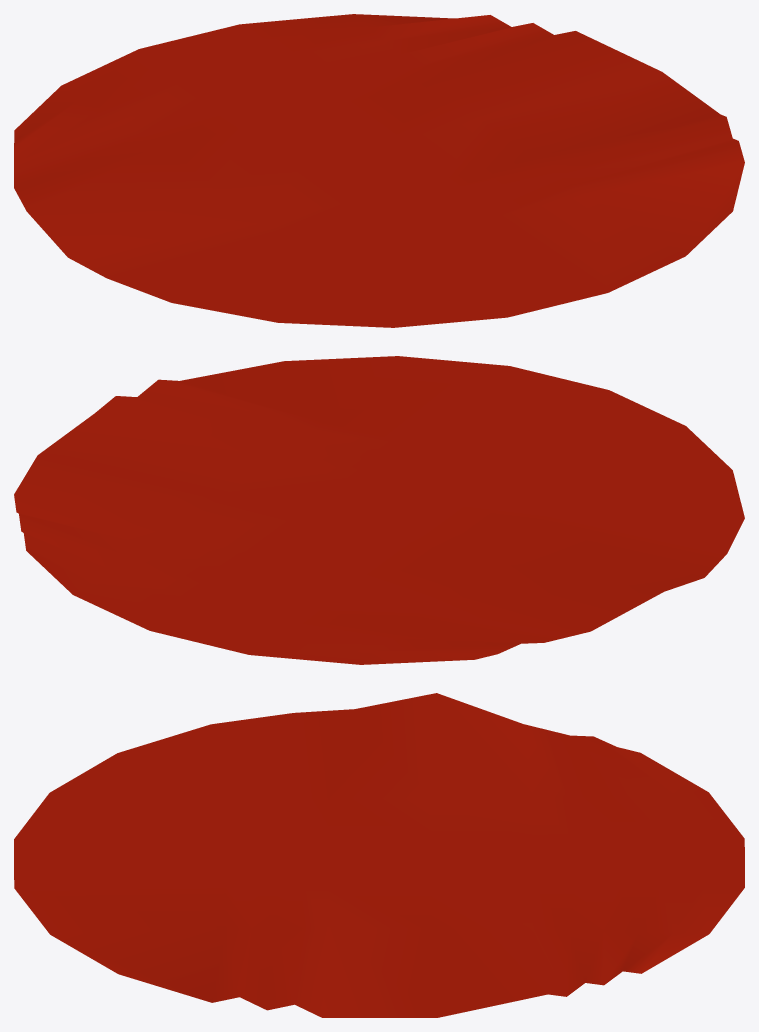
The model's file is Rug.fbx.
The picture shows the model from 3 angles, top to bottom: view 1: azimuth 30°, elevation 25°; view 2: azimuth 150°, elevation 25°; view 3: azimuth 270°, elevation 25°; orthographic projection.
Visible parts, largest first — view 1: Plane; view 2: Plane; view 3: Plane.
Boxes of the visible parts, bbox=[...] form: Plane: bbox=[14, 14, 744, 327]; Plane: bbox=[14, 356, 744, 664]; Plane: bbox=[14, 693, 744, 1017].
Size of the model in its own units: 285 by 6.91 by 285.
